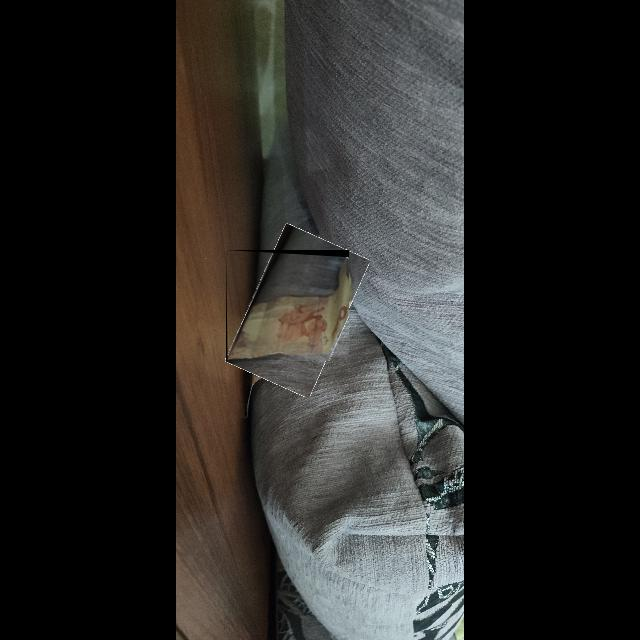100uah: (228, 256, 350, 362)
